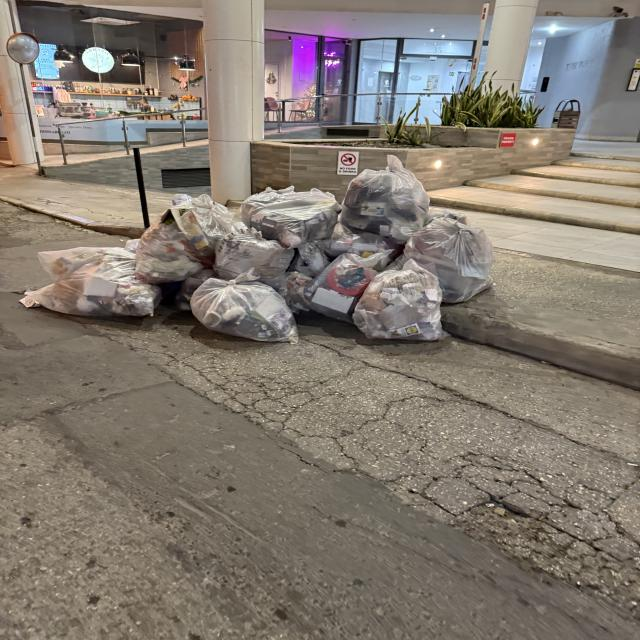Recyclable Material -Grey Bags-: (25, 154, 496, 343)
